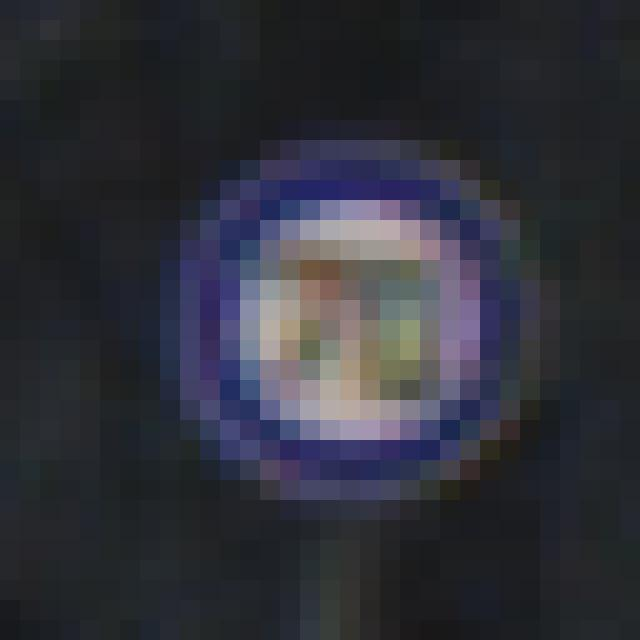SPEED LIMIT 70: (164, 149, 544, 495)
